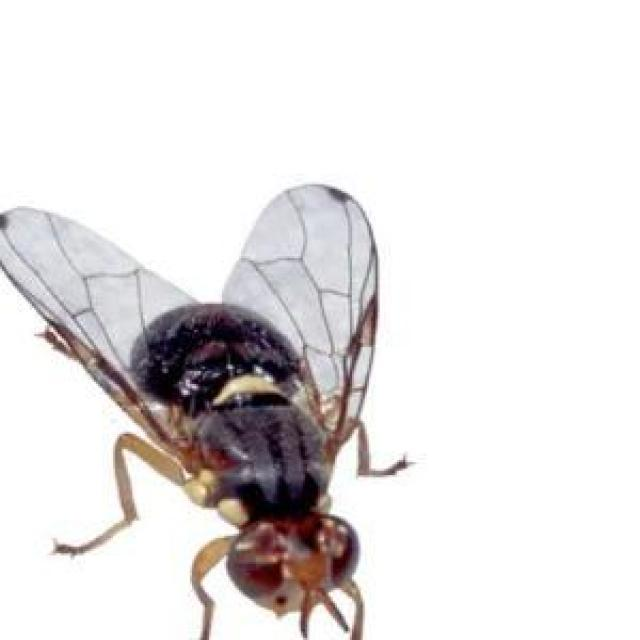Olive Fruit Fly: (0, 184, 414, 638)
